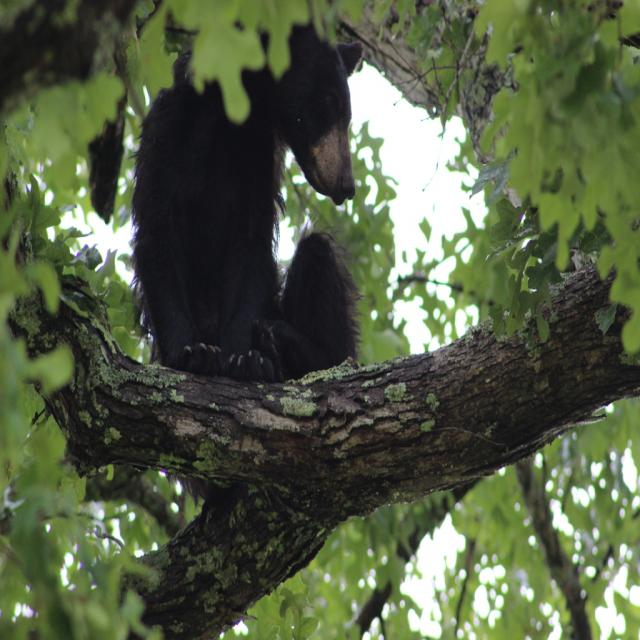Bear: (128, 17, 366, 383)
